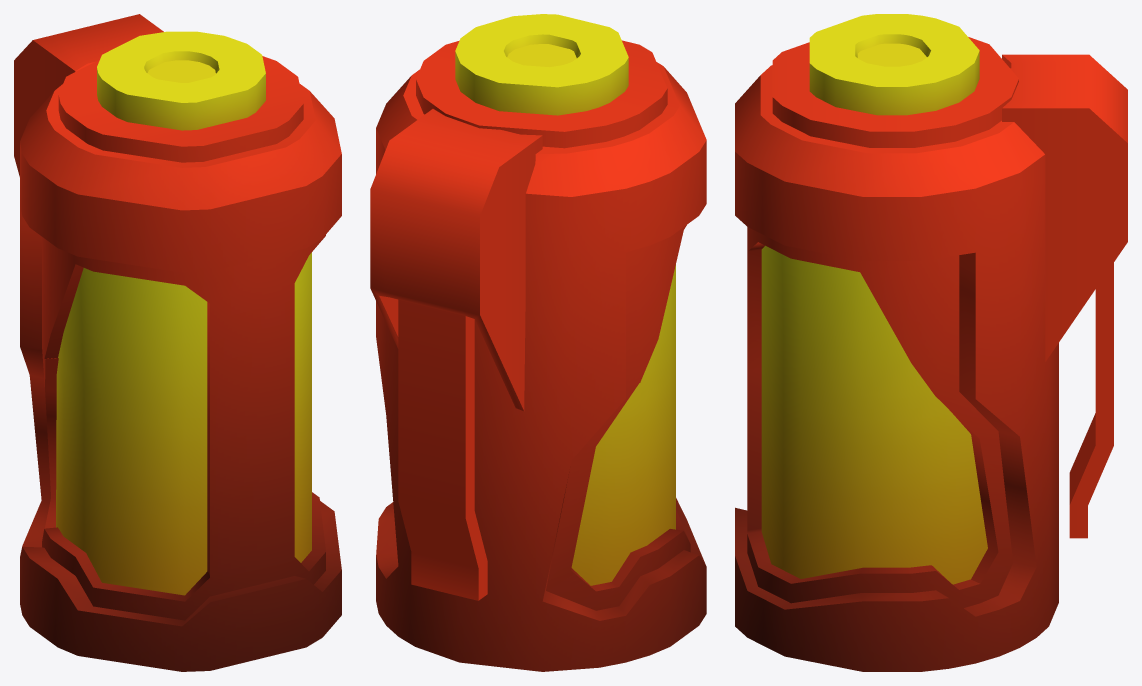
The model's file is granade2.fbx.
3 views of the same model, side by side, from view 1: azimuth 30°, elevation 25°; view 2: azimuth 150°, elevation 25°; view 3: azimuth 270°, elevation 25° (orthographic). The views are drawn at different scales.
Visible parts, largest first — view 1: base_low; view 2: base_low; view 3: base_low.
Boxes of the visible parts, x1,y1,x2,y2 form: base_low: (14,14,341,671); base_low: (370,14,706,671); base_low: (735,14,1127,671).
Bounding box in the file's own units: 280 × 518 × 334.
